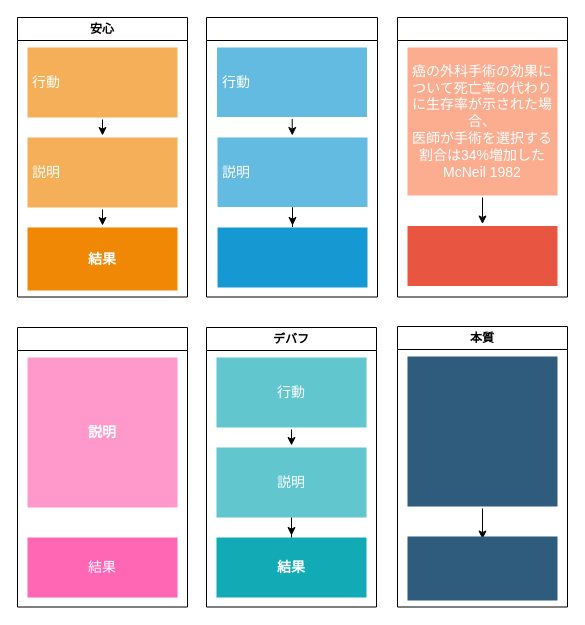
This 585x625 diagram has some shape labels left out. Each missing label, with the box of its shape:
「生存率」 変革: (407, 226, 557, 286)
「私」の高頻度 「ボール」を意識している/権力/正直: (407, 536, 557, 600)
「私」を多く言う人は - 会話のボールを意識する人 - 権力者 - 正直者 これらの要素を自由要旨する: (407, 356, 557, 506)
バフ: (16, 326, 188, 607)
嫌い / 現状維持: (206, 16, 378, 297)
改革: (396, 16, 568, 297)
極端に少ない瞬き：噓の可能性、緊張状態: (217, 227, 367, 287)
